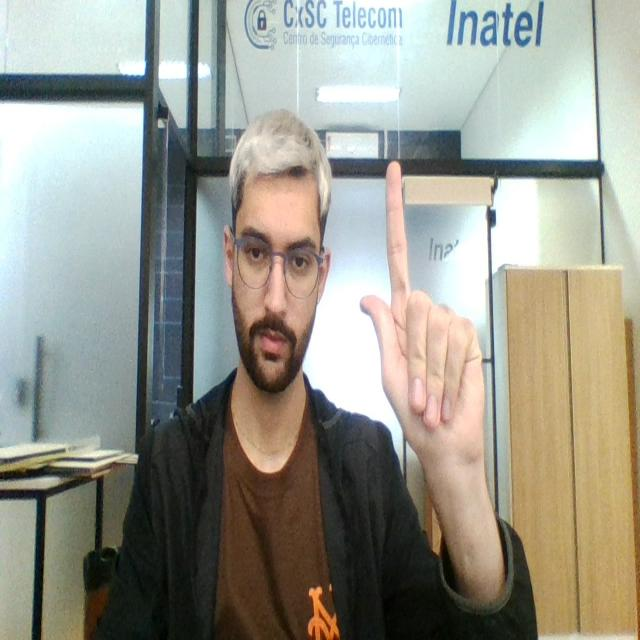G: (359, 160, 496, 468)
